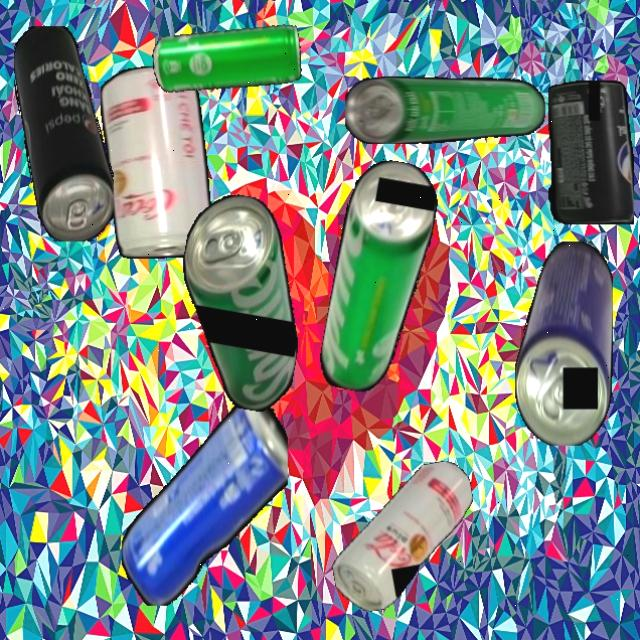debris: (160, 188, 322, 416), (121, 400, 288, 606), (316, 155, 443, 398), (318, 458, 489, 616), (13, 25, 114, 242), (101, 65, 213, 258), (514, 240, 613, 446), (149, 14, 306, 105), (345, 75, 546, 144), (547, 80, 634, 224)
